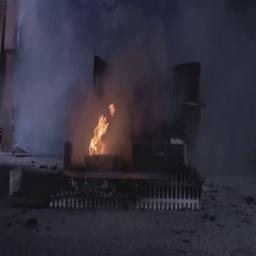fire: (82, 104, 119, 161)
smoke: (15, 0, 238, 102)
